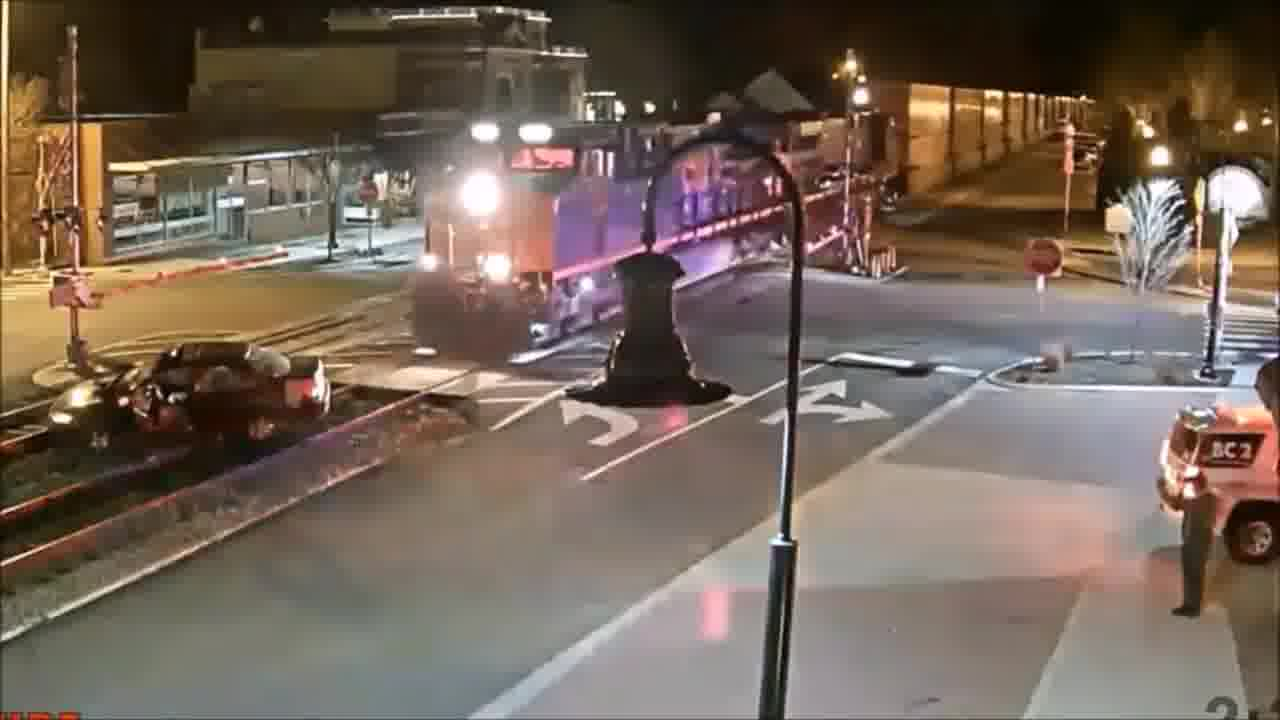crossing railway track: (33, 334, 343, 471)
